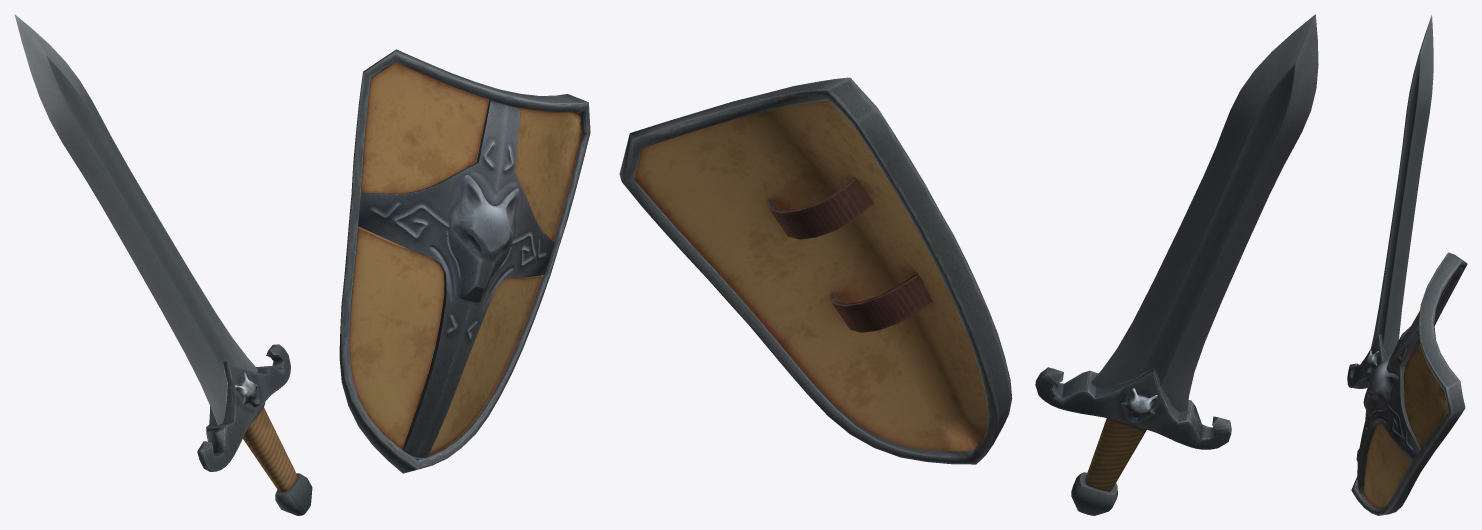
Rendered from Sword and Shield Prop 4_IETECH.fbx.
3 views of the same model, side by side, from view 1: azimuth 30°, elevation 25°; view 2: azimuth 150°, elevation 25°; view 3: azimuth 270°, elevation 25° (orthographic). The views are drawn at different scales.
Parts seen in each view (by area): view 1: Escudo_Material.001_0, Espada_Material.002_0; view 2: Escudo_Material.001_0, Espada_Material.002_0; view 3: Escudo_Material.001_0, Espada_Material.002_0.
Boxes of the visible parts, x1,y1,x2,y2 form: Escudo_Material.001_0: (339,49,590,473); Espada_Material.002_0: (14,14,312,515); Escudo_Material.001_0: (619,77,1012,464); Espada_Material.002_0: (1035,14,1318,515); Escudo_Material.001_0: (1351,252,1467,515); Espada_Material.002_0: (1347,15,1433,461).
Size of the model in its own units: 1347 by 1149 by 334.
Materials: 2 (2 with a texture image).
